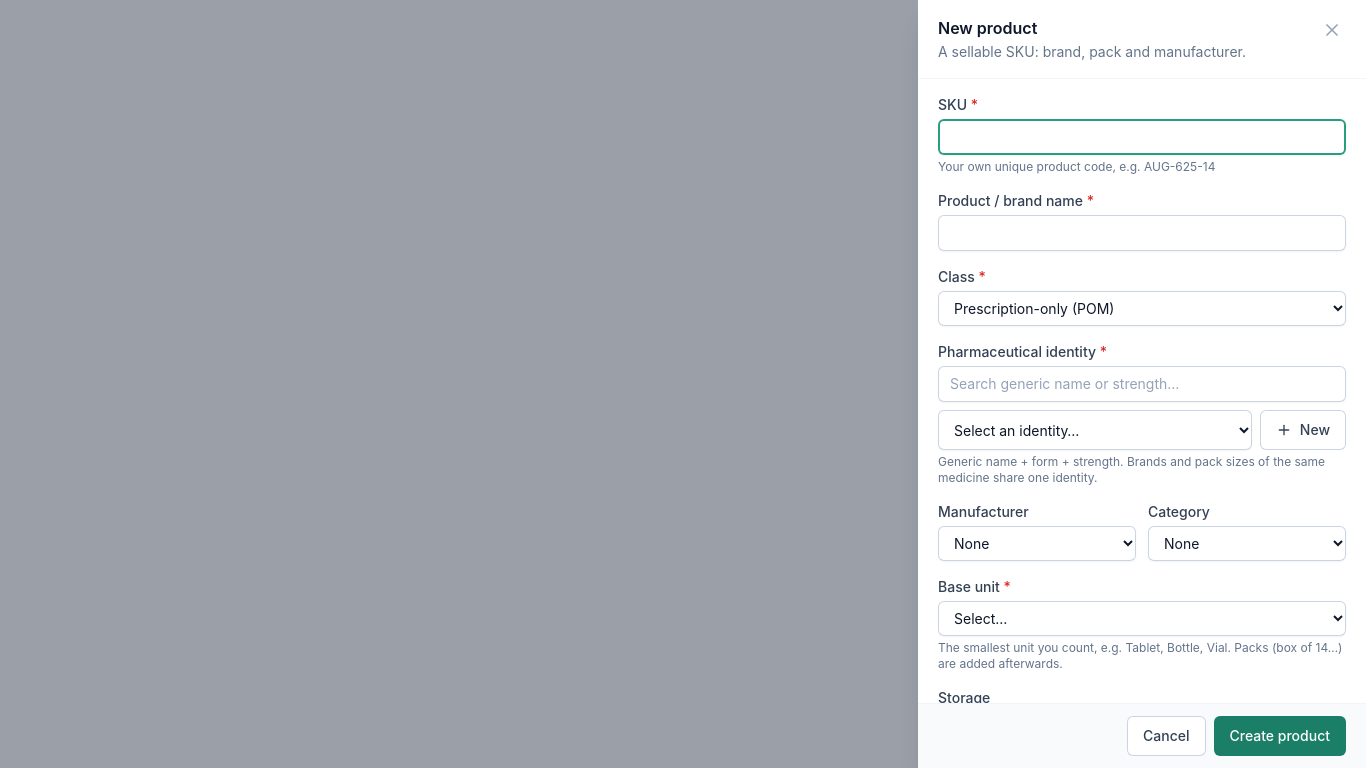
Scenario: product form › requires an SKU, a name and a base unit before anything is sent
Click the button "Create product" at (1280, 736), box x1=1214 y1=716 x2=1346 y2=756
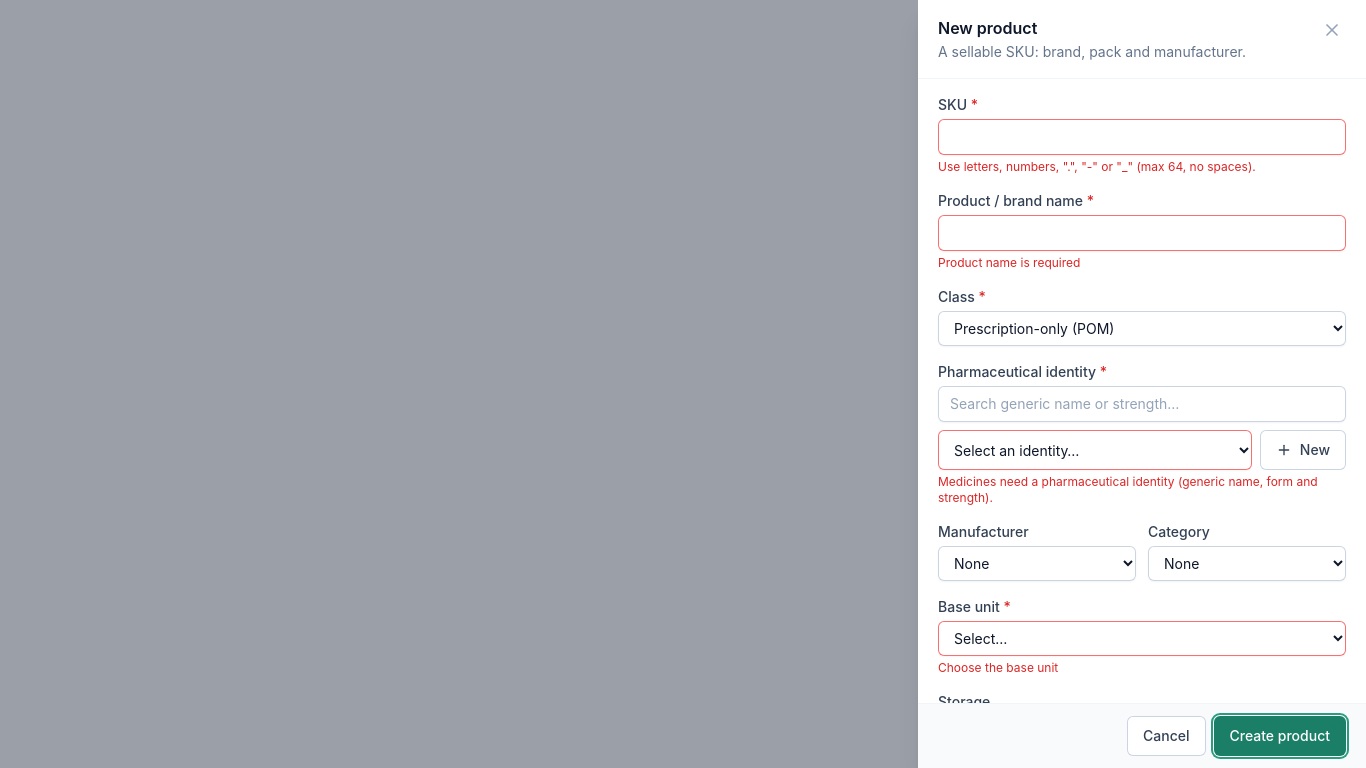
Now the text "Product name is required" is shown, box x1=938 y1=255 x2=1080 y2=270
Now the text "Choose the base unit" is shown, box x1=938 y1=660 x2=1058 y2=675
